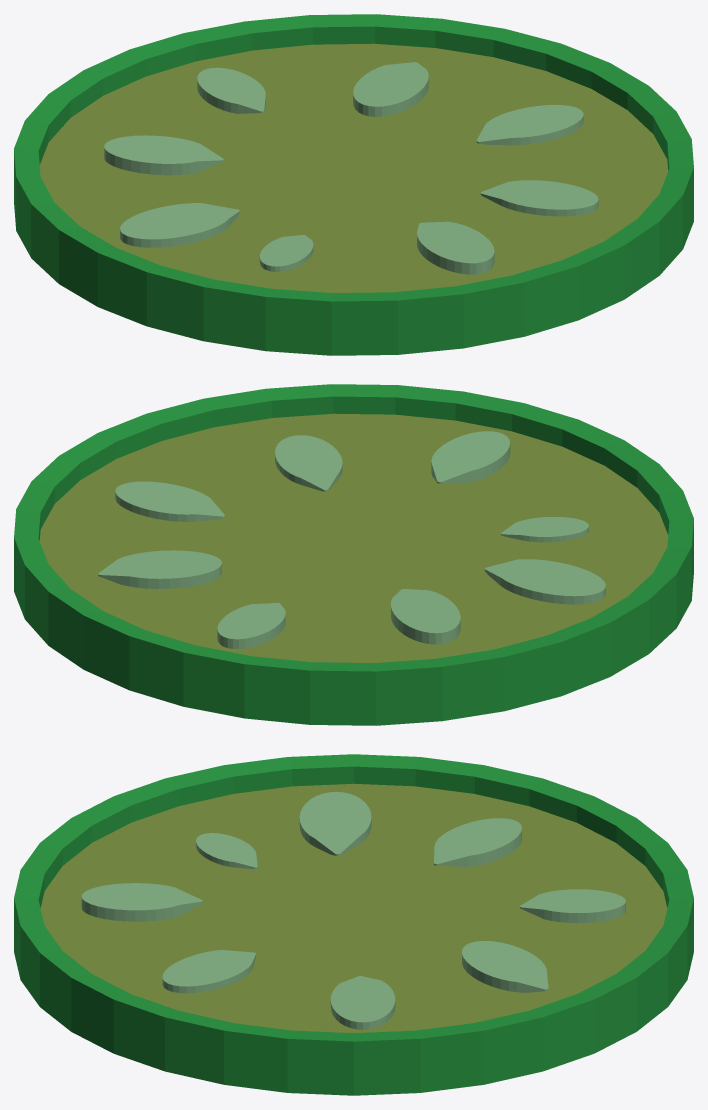
File: Pickles.fbx
3 views of the same model, one above another, from view 1: azimuth 30°, elevation 25°; view 2: azimuth 150°, elevation 25°; view 3: azimuth 270°, elevation 25° (orthographic).
Visible parts, largest first — view 1: Cylinder, Cylinder.004, Cylinder.006, Cylinder.003, Cylinder.008, Cylinder.001, Cylinder.005, Cylinder.015, Cylinder.007; view 2: Cylinder, Cylinder.004, Cylinder.008, Cylinder.003, Cylinder.001, Cylinder.006, Cylinder.005, Cylinder.015, Cylinder.007; view 3: Cylinder, Cylinder.003, Cylinder.004, Cylinder.008, Cylinder.006, Cylinder.005, Cylinder.015, Cylinder.001, Cylinder.007.
Part boxes in pixels (x1,y1,x2,y2): Cylinder: (14,14,693,355); Cylinder.004: (120,203,239,247); Cylinder.006: (104,135,223,175); Cylinder.003: (417,221,494,274); Cylinder.008: (353,62,428,116); Cylinder.001: (476,105,583,145); Cylinder.005: (480,180,598,216); Cylinder.015: (197,67,265,113); Cylinder.007: (259,235,313,271); Cylinder: (14,384,693,725); Cylinder.004: (484,559,605,604); Cylinder.008: (98,550,221,588); Cylinder.003: (431,431,510,483); Cylinder.001: (115,481,224,521); Cylinder.006: (391,589,460,644); Cylinder.005: (275,435,342,491); Cylinder.015: (217,603,285,648); Cylinder.007: (501,517,588,542); Cylinder: (14,754,693,1095); Cylinder.003: (81,883,202,921); Cylinder.004: (299,792,371,855); Cylinder.008: (462,941,548,992); Cylinder.006: (434,818,521,867); Cylinder.005: (162,950,256,993); Cylinder.015: (520,889,625,922); Cylinder.001: (330,976,395,1029); Cylinder.007: (196,833,257,868).
Bounding box in the file's own units: 200 × 18.9 × 200.
